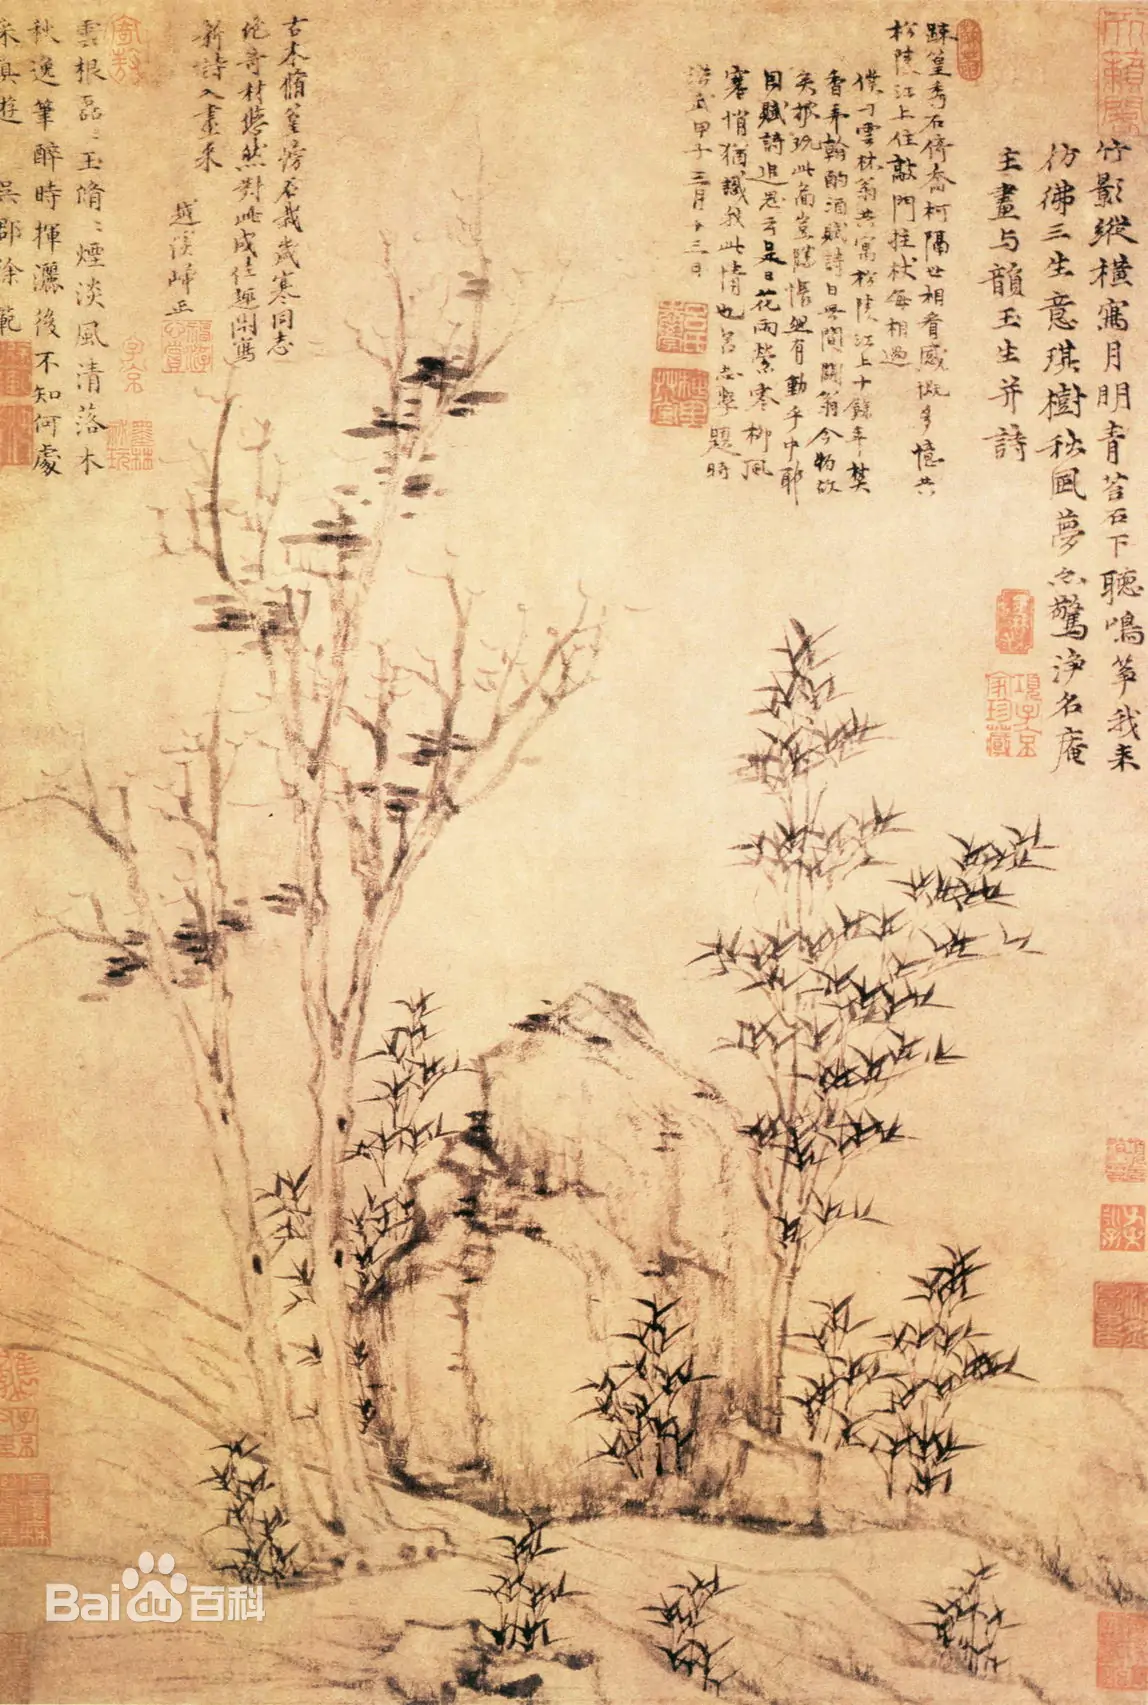bamboo: (723, 608, 1047, 1515), (568, 1276, 732, 1508)
rock: (363, 976, 758, 1508)
tree: (53, 216, 586, 1611)
